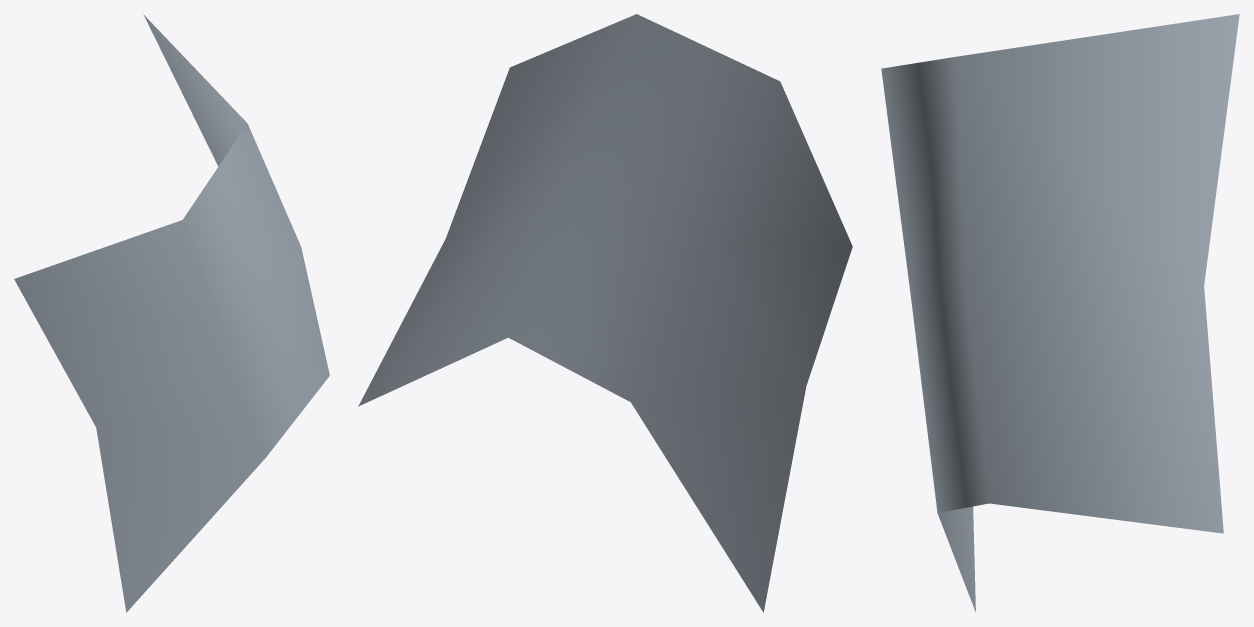
Rendered from transverse-humeral-ligament-l.glb.
The picture shows the model from 3 angles, left to right: view 1: azimuth 30°, elevation 25°; view 2: azimuth 150°, elevation 25°; view 3: azimuth 270°, elevation 25°; orthographic projection. The views are drawn at different scales.
Visible parts, largest first — view 1: Transverse humeral ligament.l; view 2: Transverse humeral ligament.l; view 3: Transverse humeral ligament.l.
Part boxes in pixels (x1,y1,x2,y2): Transverse humeral ligament.l: [14, 14, 329, 612]; Transverse humeral ligament.l: [358, 14, 852, 612]; Transverse humeral ligament.l: [881, 14, 1239, 612].
Size of the model in its own units: 0.0127 by 0.0179 by 0.0086.
